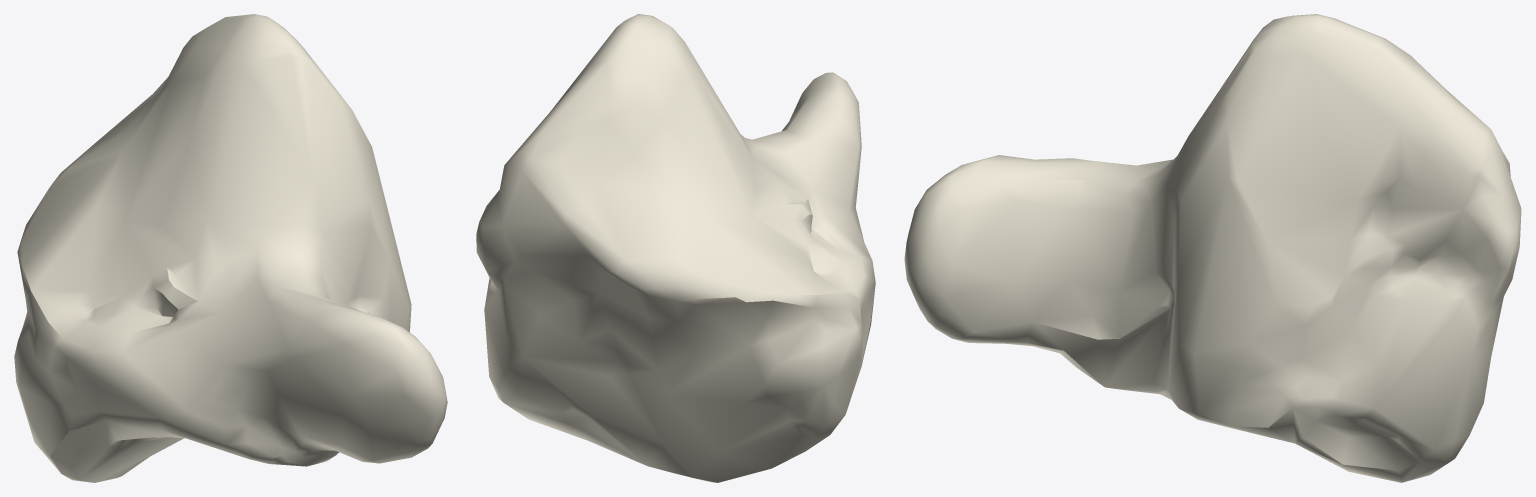
Rendered from fma24449.glb.
The picture shows the model from 3 angles, left to right: view 1: azimuth 30°, elevation 25°; view 2: azimuth 150°, elevation 25°; view 3: azimuth 270°, elevation 25°; orthographic projection. The views are drawn at different scales.
Visible parts, largest first — view 1: FMA24449; view 2: FMA24449; view 3: FMA24449.
Boxes of the visible parts, x1,y1,x2,y2 form: FMA24449: [14, 14, 447, 482]; FMA24449: [476, 14, 875, 482]; FMA24449: [904, 14, 1521, 482].
Bounding box in the file's own units: 0.0159 × 0.0195 × 0.0228.
